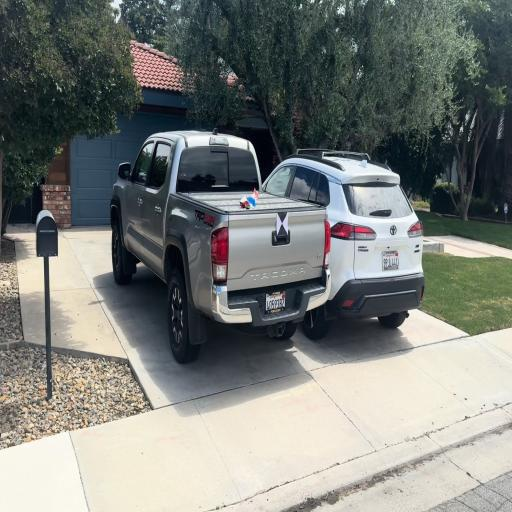target: (276, 212, 288, 236)
